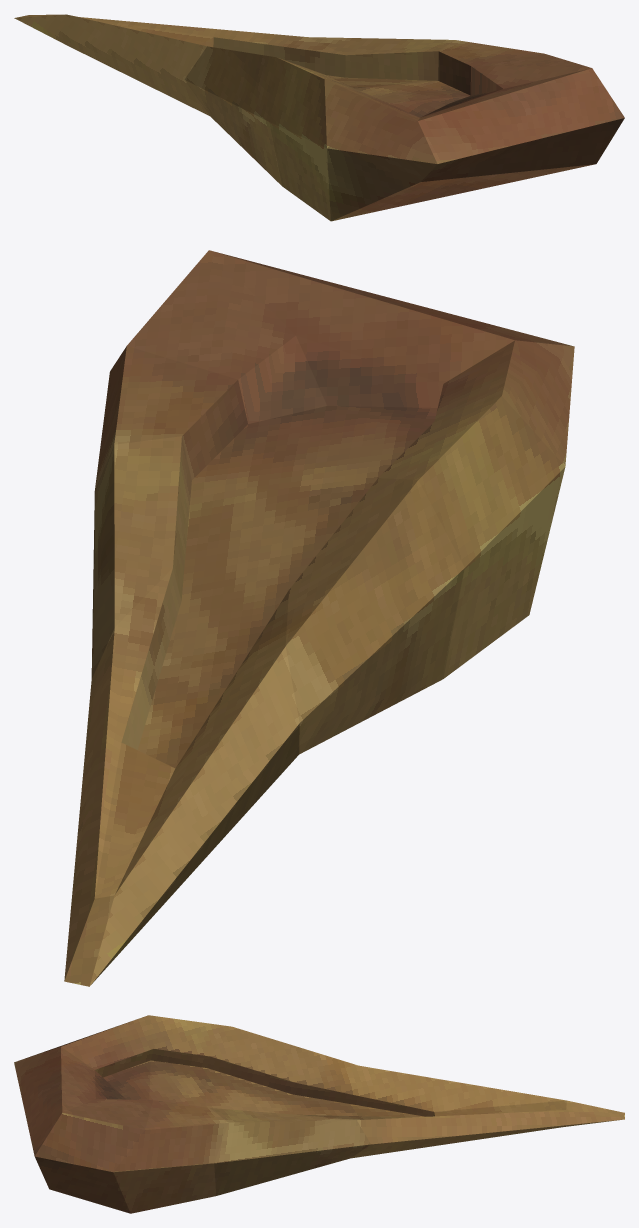
Rendered from deserter_ear.glb.
The picture shows the model from 3 angles, top to bottom: view 1: azimuth 30°, elevation 25°; view 2: azimuth 150°, elevation 25°; view 3: azimuth 270°, elevation 25°; orthographic projection. The views are drawn at different scales.
Visible parts, largest first — view 1: ucho_pustelinka; view 2: ucho_pustelinka; view 3: ucho_pustelinka.
Boxes of the visible parts, box(x1,y1,x2,y2) form: ucho_pustelinka: box(14, 14, 624, 221); ucho_pustelinka: box(64, 250, 574, 986); ucho_pustelinka: box(14, 1015, 624, 1213).
Size of the model in its own units: 0.19 by 0.0875 by 0.4093.
Materials: 1 (1 with a texture image).
